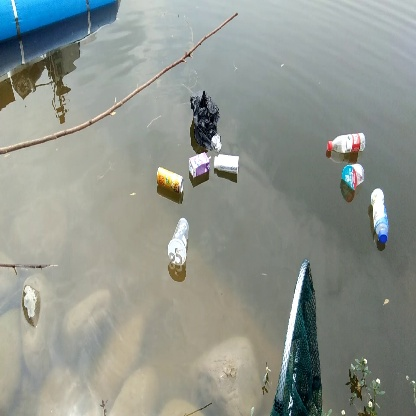bottle: (367, 188, 392, 248), (167, 217, 193, 268), (152, 167, 186, 199), (325, 131, 367, 156)
milk-box: (188, 152, 212, 178)
plastic-bag: (188, 91, 223, 149)
